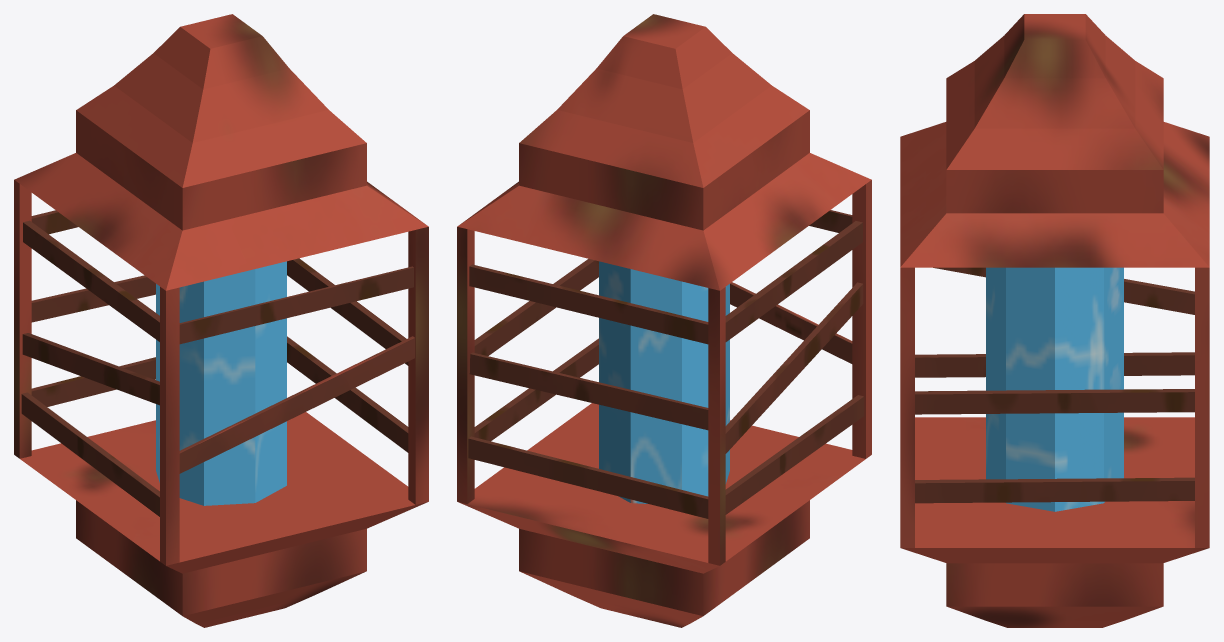
Rendered from bug_zapper.glb.
3 views of the same model, side by side, from view 1: azimuth 30°, elevation 25°; view 2: azimuth 150°, elevation 25°; view 3: azimuth 270°, elevation 25° (orthographic).
Visible parts, largest first — view 1: Zapper; view 2: Zapper; view 3: Zapper.
Boxes of the visible parts, left/top/right/bottom form: Zapper: left=14, top=14, right=428, bottom=627; Zapper: left=457, top=14, right=871, bottom=627; Zapper: left=900, top=14, right=1209, bottom=627.
Bounding box in the file's own units: 0.1899 × 0.3932 × 0.1899.
3 materials, 3 textured.
